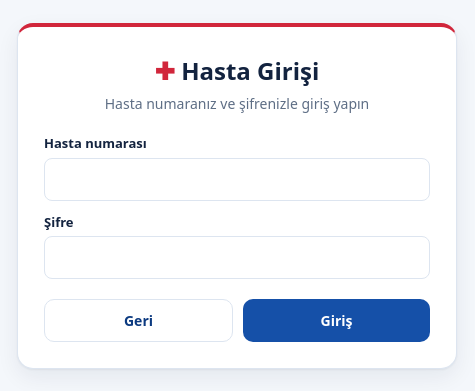
Scenario: patient login › goes back to the entry page
Click the link "Geri": point(138, 320) [44,299,233,342]
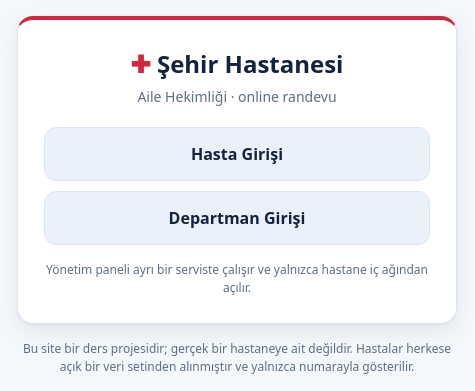
Check: the link "Departman Girişi" is shown, box [44,191,430,245]
